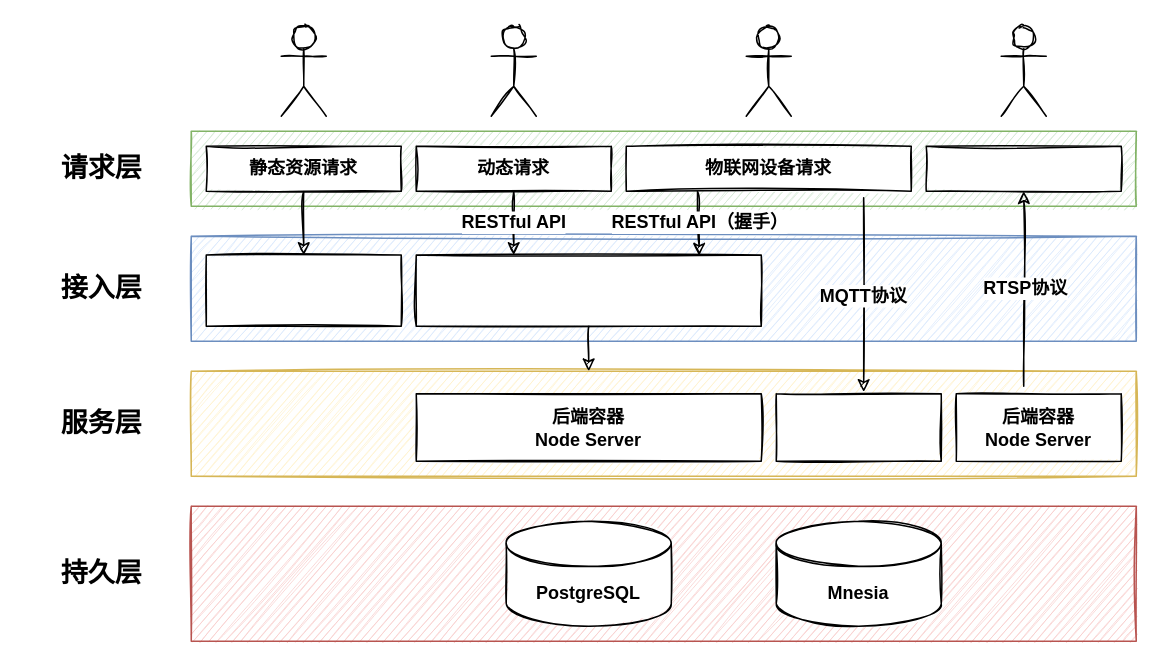
Some shapes in this 1163 by 668 pixel diagram are drawn without their labels. The box of each missing label's shape, as (x1, y1, x2, y2) in pixels:
Nginx 前端容器: (205, 254, 401, 326)
Nginx 反向代理: (415, 254, 761, 326)
后端容器 MQTT Server: (775, 392, 941, 461)
网络摄像头: (925, 145, 1121, 191)
